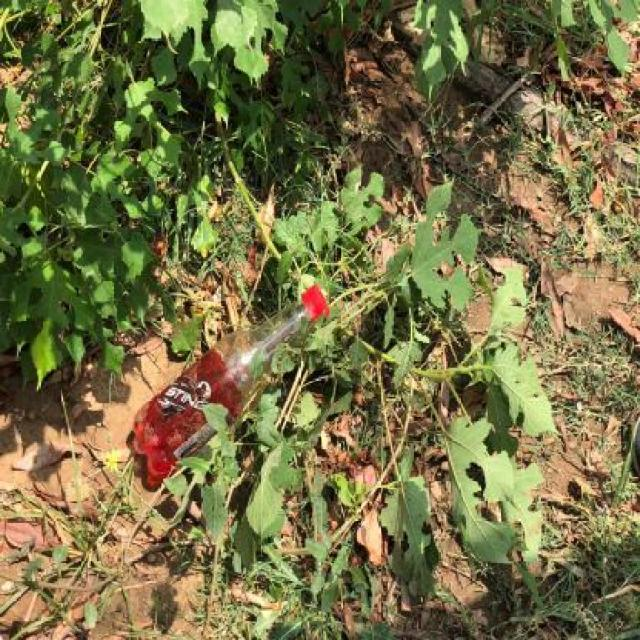garbage: (123, 280, 337, 498)
